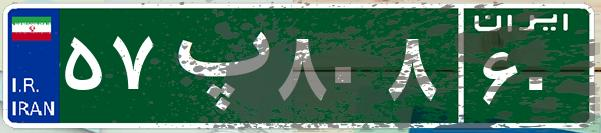0: (330, 28, 385, 110), (525, 38, 570, 115)
5: (57, 26, 110, 107)
6: (475, 38, 525, 113)
7: (110, 28, 158, 105)
8: (385, 28, 445, 110), (273, 28, 330, 110)
پ: (158, 15, 273, 115)
